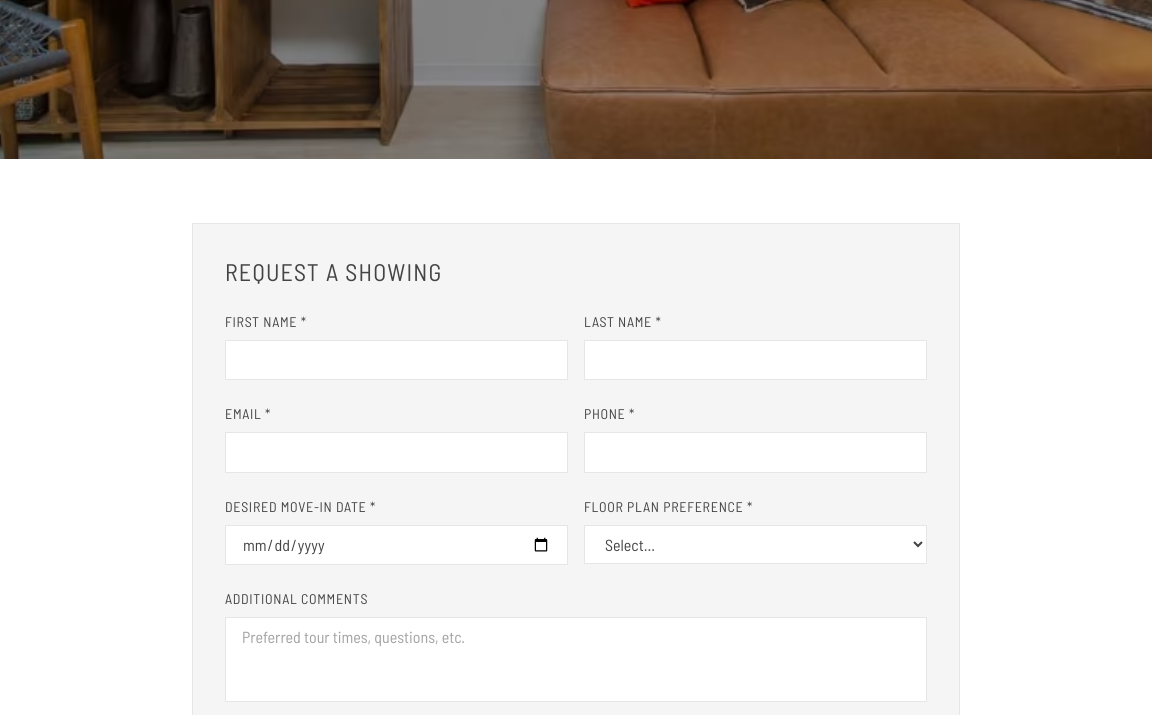
Test case: ScheduleTour — thank-you and error screens are announced and focused › announces and focuses the thank-you screen on success
(page scrolled)
Type "Jane" into the field labelled "First Name *". click: {"x": 396, "y": 360}
box: [225, 340, 568, 380]
Type "Doe" into the field labelled "Last Name *". click: {"x": 756, "y": 360}
box: [584, 340, 927, 380]
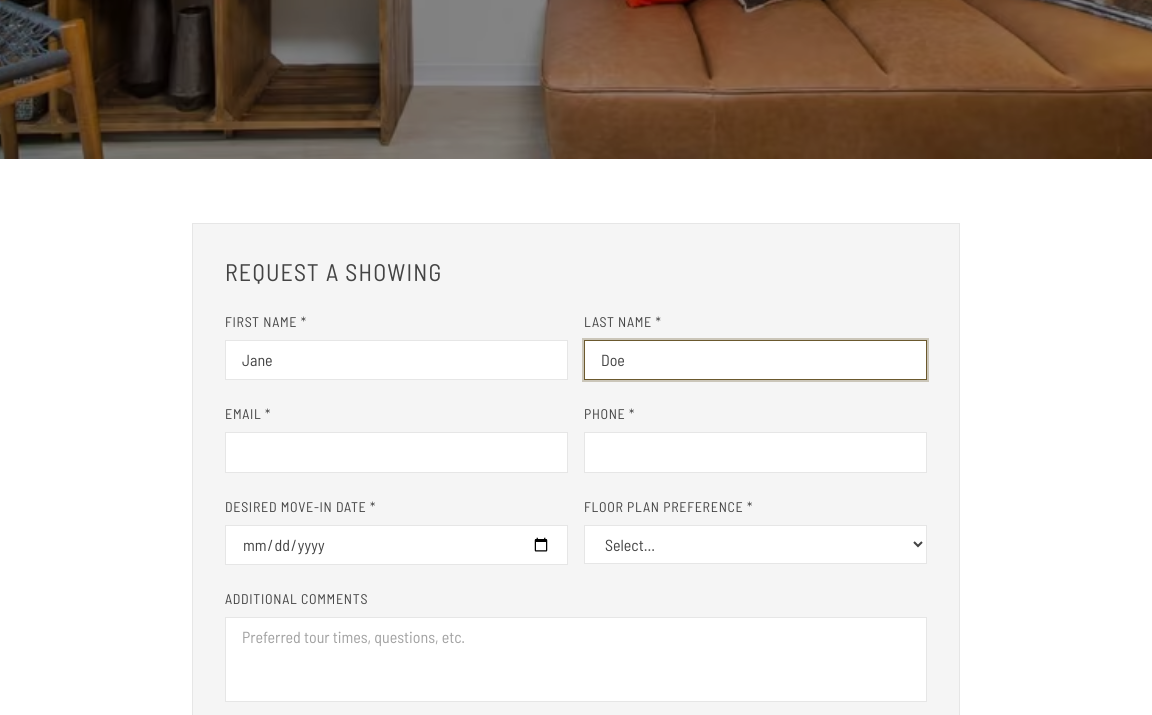
Type "jane@example.com" into the field labelled "Email *". click: {"x": 396, "y": 453}
box: [225, 432, 568, 473]
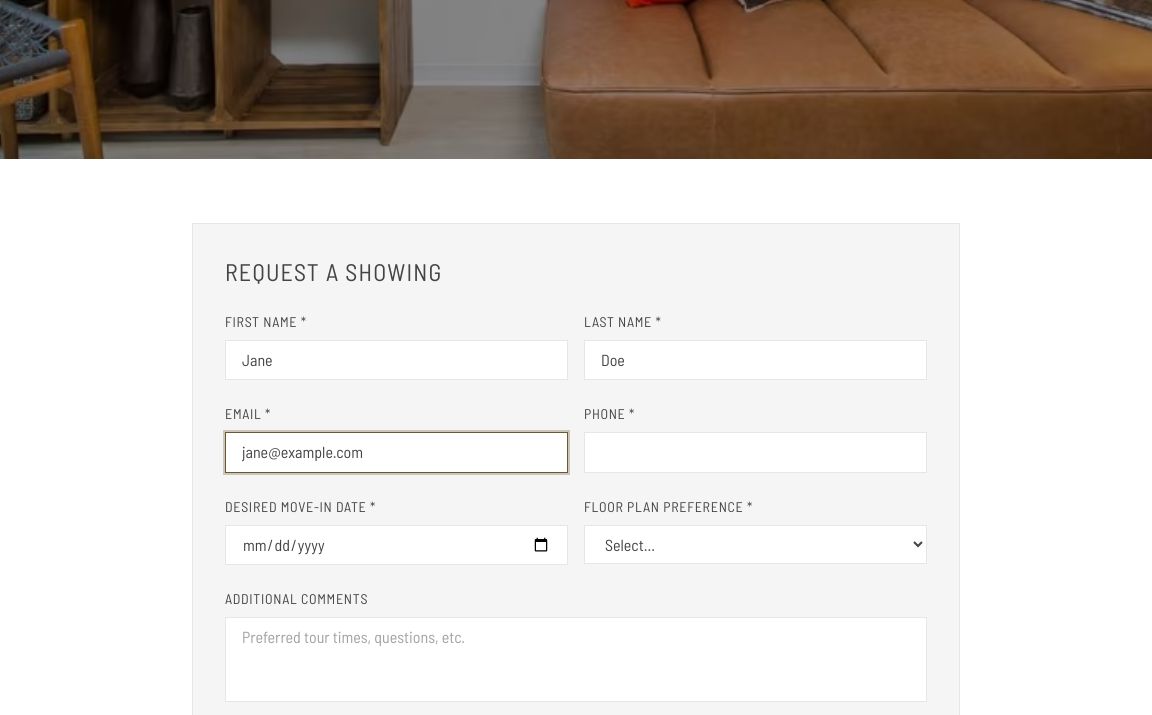
Type "3125550100" into the field labelled "Phone *". click: {"x": 756, "y": 453}
box: [584, 432, 927, 473]
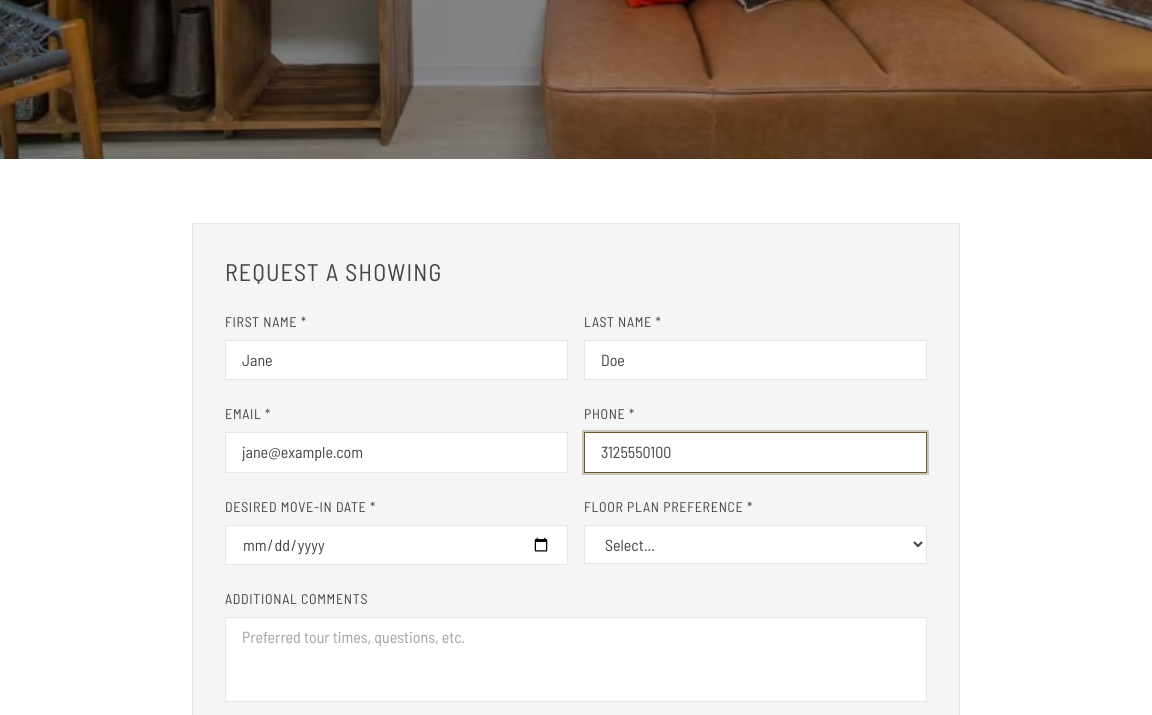
Type "2026-09-01" into the date field labelled "Desired Move-In Date *". click: {"x": 396, "y": 545}
box: [225, 525, 568, 565]
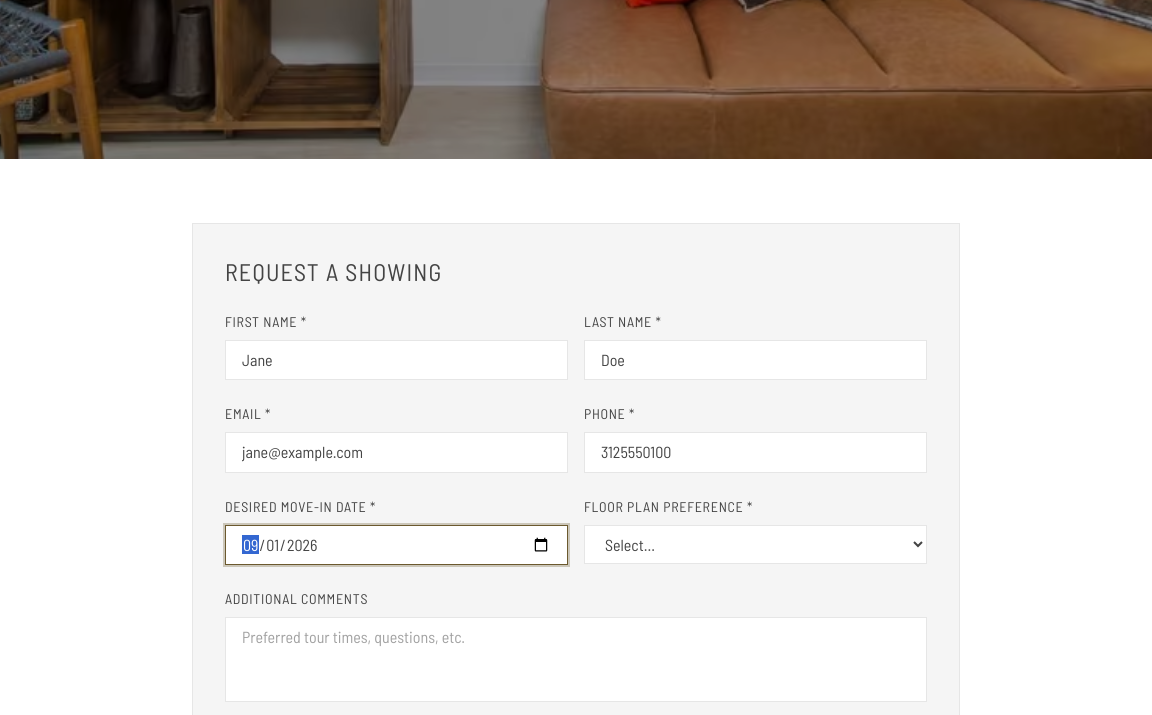
Select "1 Bedroom" in the dropdown labelled "Floor Plan Preference *". click: {"x": 756, "y": 544}
box: [584, 525, 927, 564]
(page scrolled)
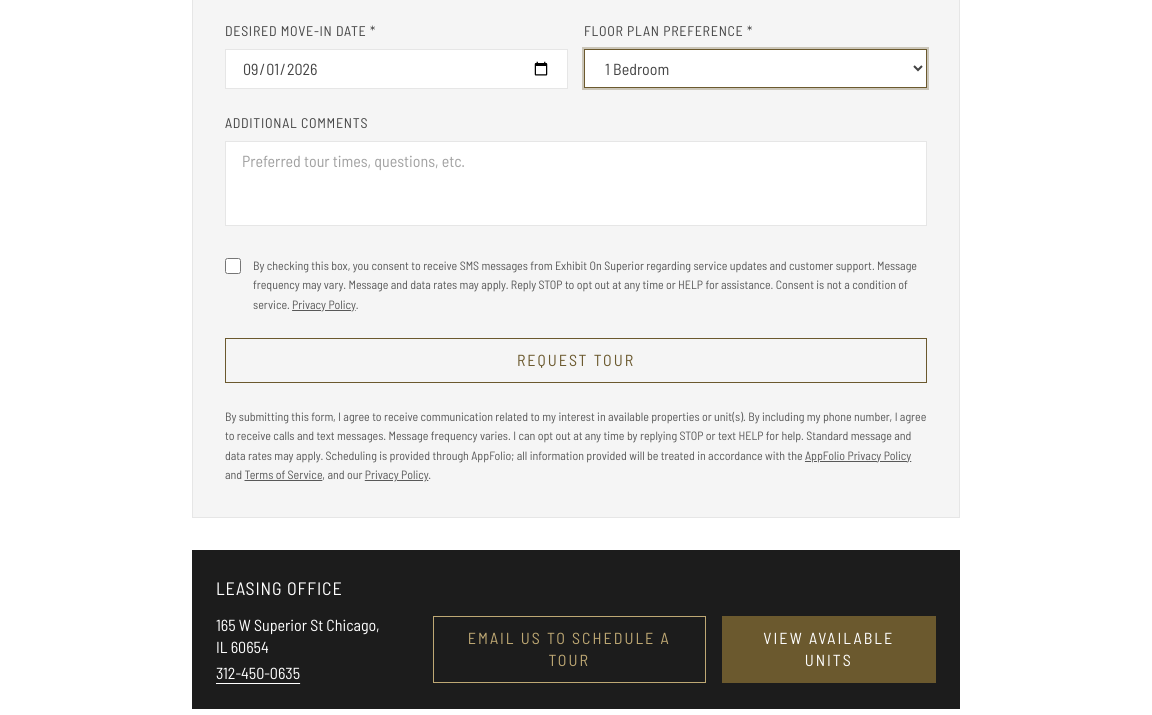
Click the button "Request Tour". click: {"x": 576, "y": 360}
box: [225, 338, 927, 383]
(page scrolled)
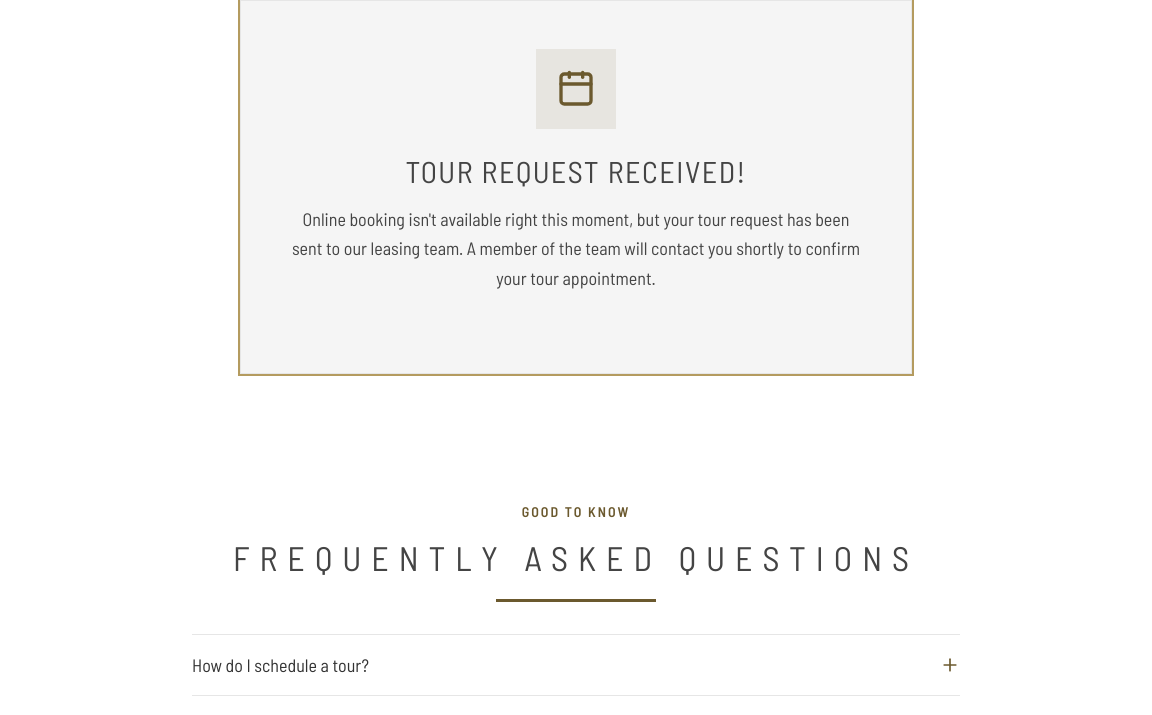
Check: the text "Tour Request Received" is shown, box [406, 153, 746, 189]
